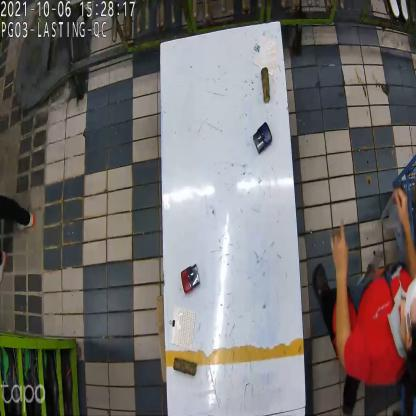stamp: (181, 261, 201, 297), (254, 121, 273, 155)
